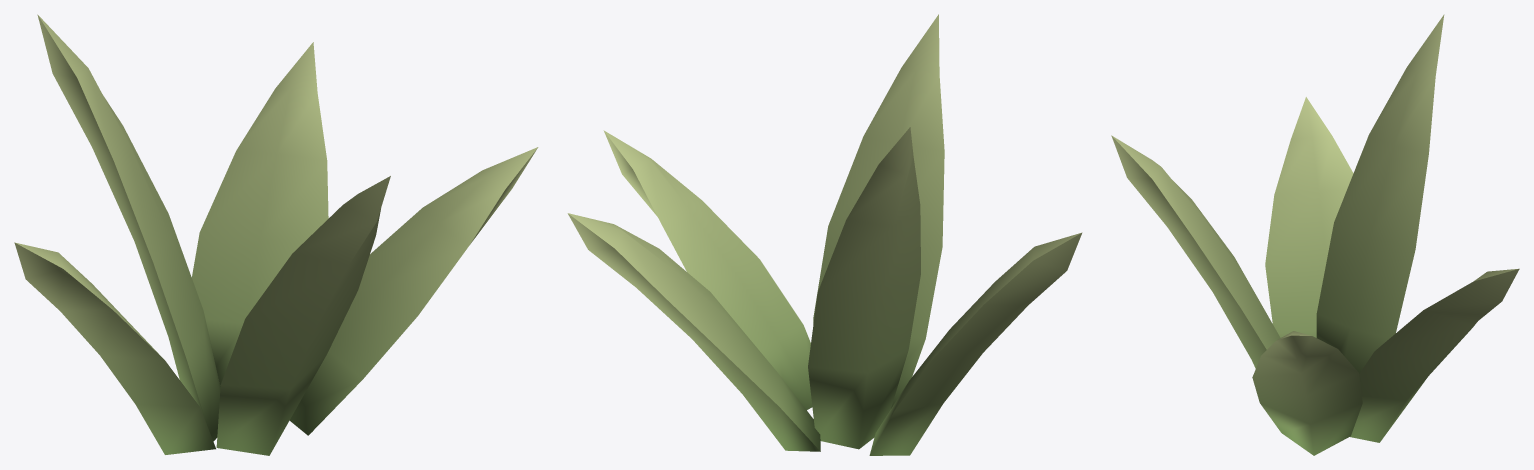
The model's file is grass_small_b.glb.
3 views of the same model, side by side, from view 1: azimuth 30°, elevation 25°; view 2: azimuth 150°, elevation 25°; view 3: azimuth 270°, elevation 25° (orthographic). The views are drawn at different scales.
Parts seen in each view (by area): view 1: Grass_Small_B.001; view 2: Grass_Small_B.001; view 3: Grass_Small_B.001.
Boxes of the visible parts, <box> form: Grass_Small_B.001: <box>14,14,538,455</box>; Grass_Small_B.001: <box>567,14,1082,455</box>; Grass_Small_B.001: <box>1111,14,1519,455</box>.
Size of the model in its own units: 0.3415 by 0.2605 by 0.27.
